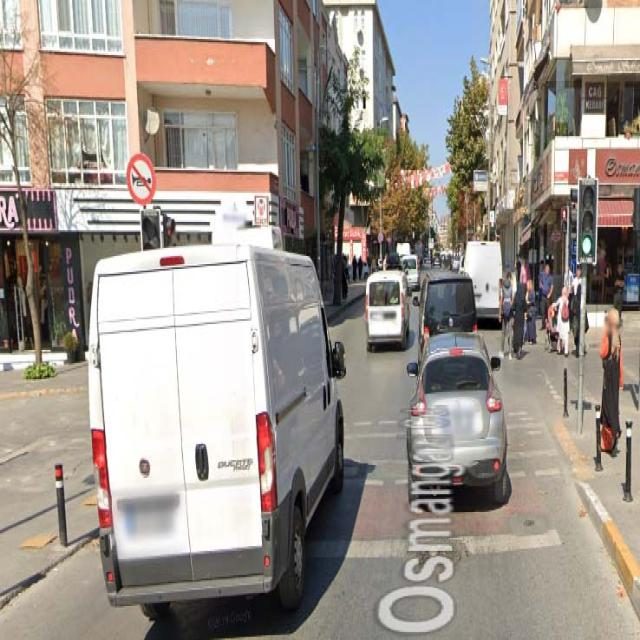yesil: (576, 177, 596, 264)
